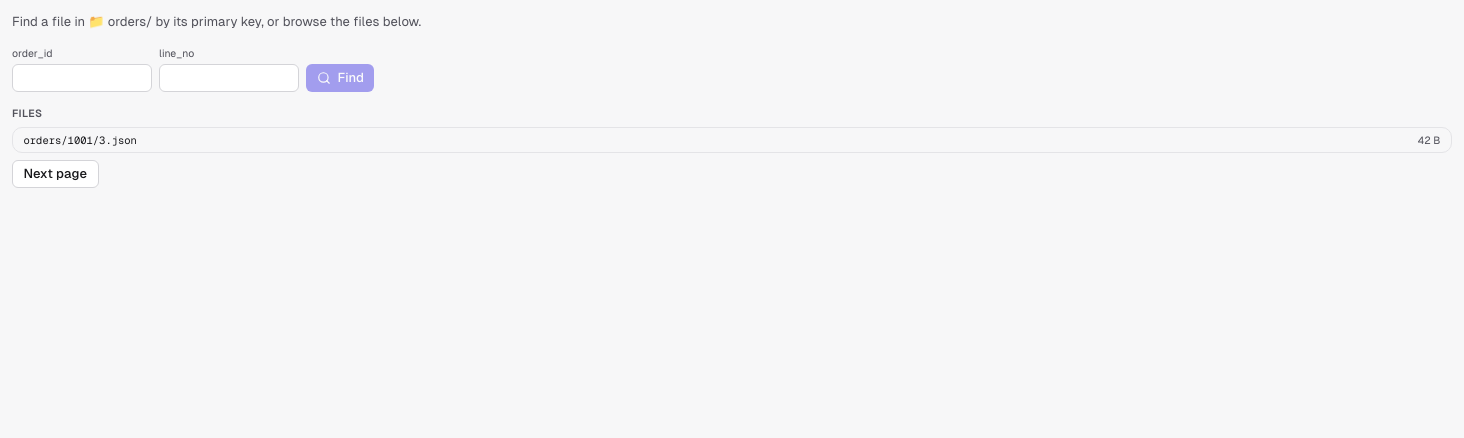
it: OutputBrowser › AC4: not found state
Type "1001" into the field labelled "order_id".
click(82, 78); type("1001")  # box [12,64,152,92]
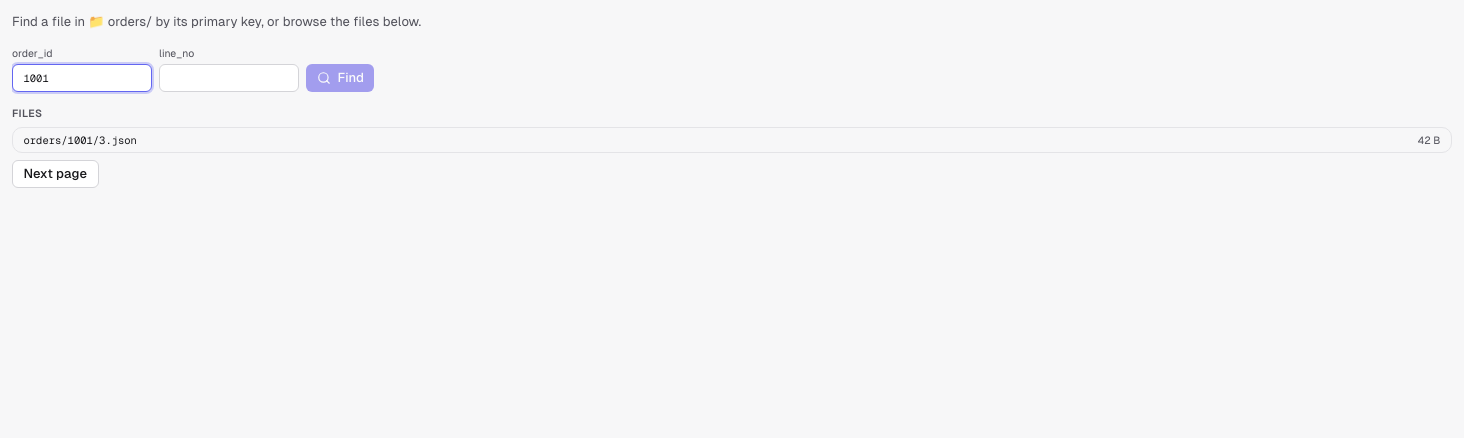
Type "9" into the field labelled "line_no".
click(229, 78); type("9")  # box [159,64,299,92]
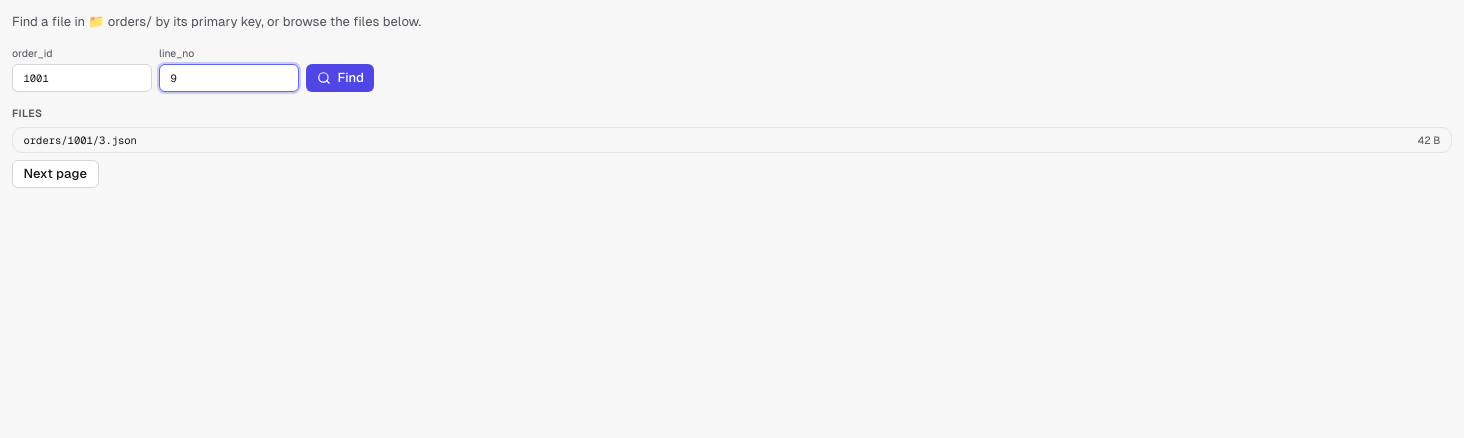
Click the button "Find".
click(340, 78)  # box [306,64,374,92]
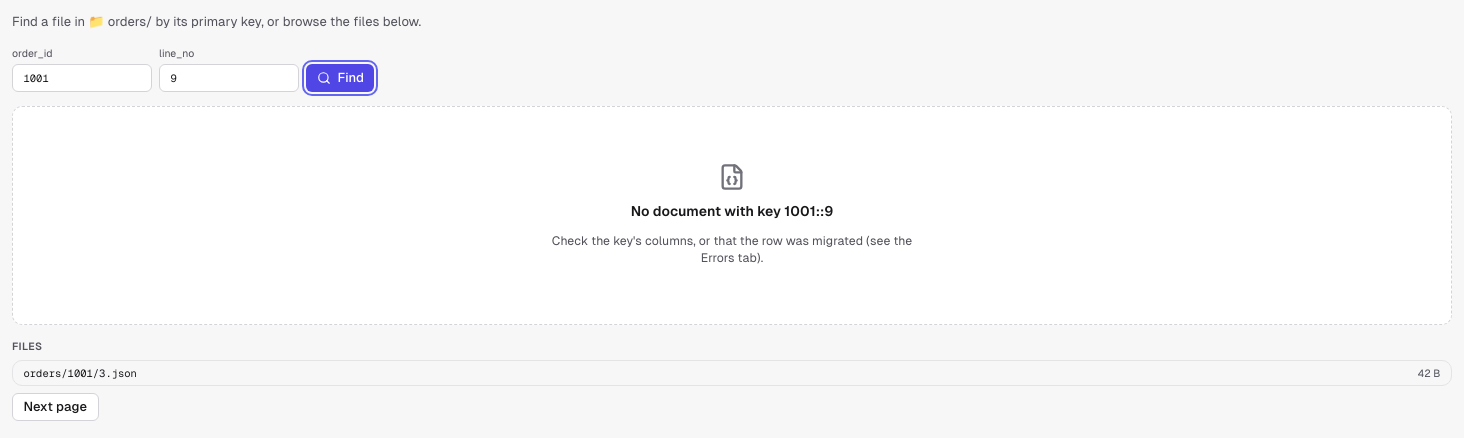
Expected: the heading "No document with key 1001::9" is shown, [631,201,833,222]
